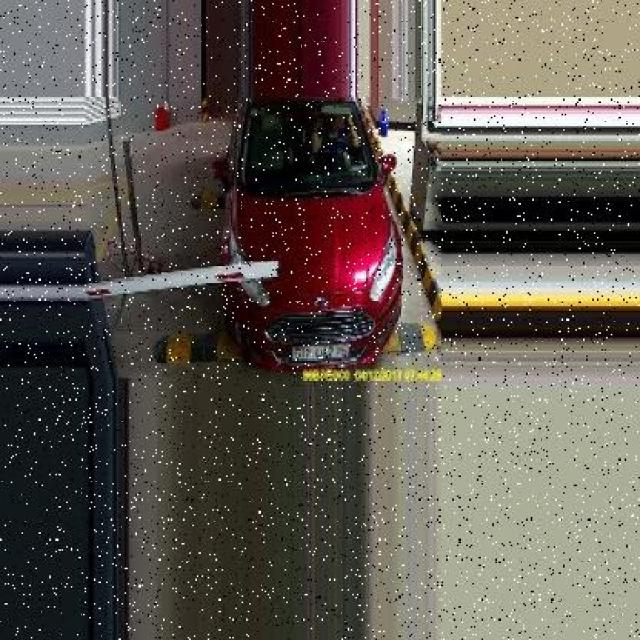number_plate: (288, 334, 357, 368)
